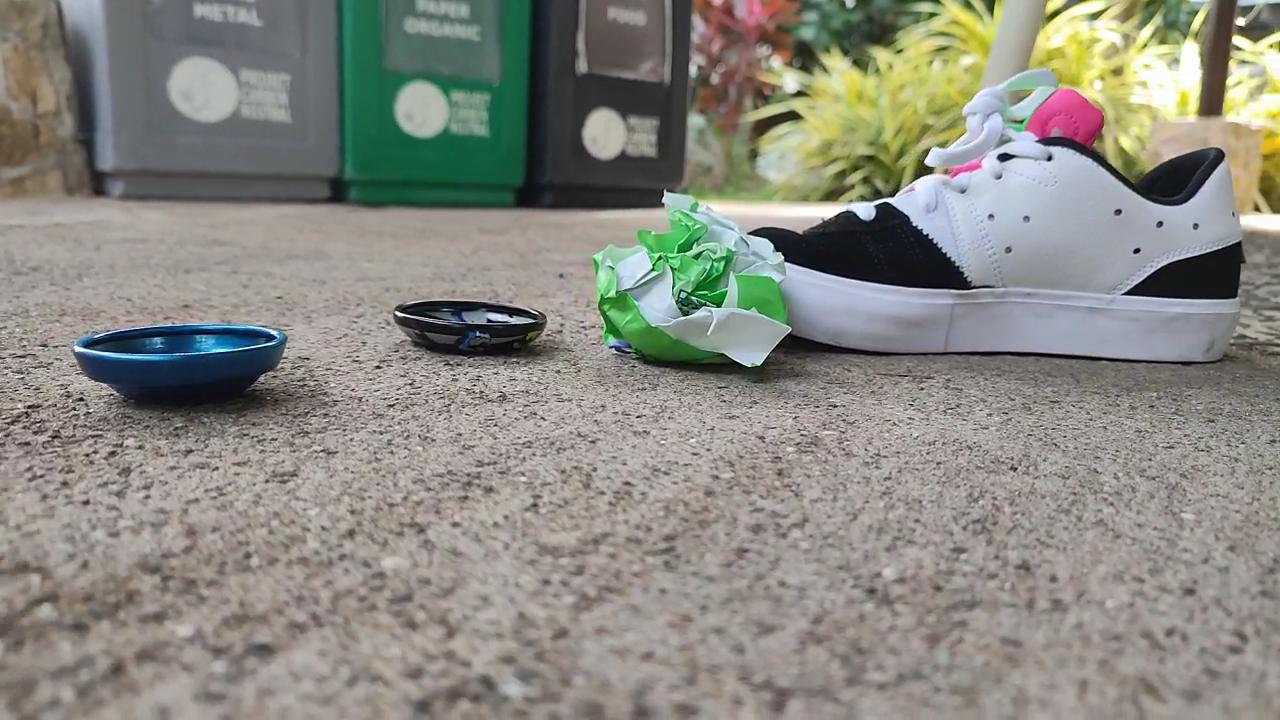Paper: (568, 168, 809, 379)
